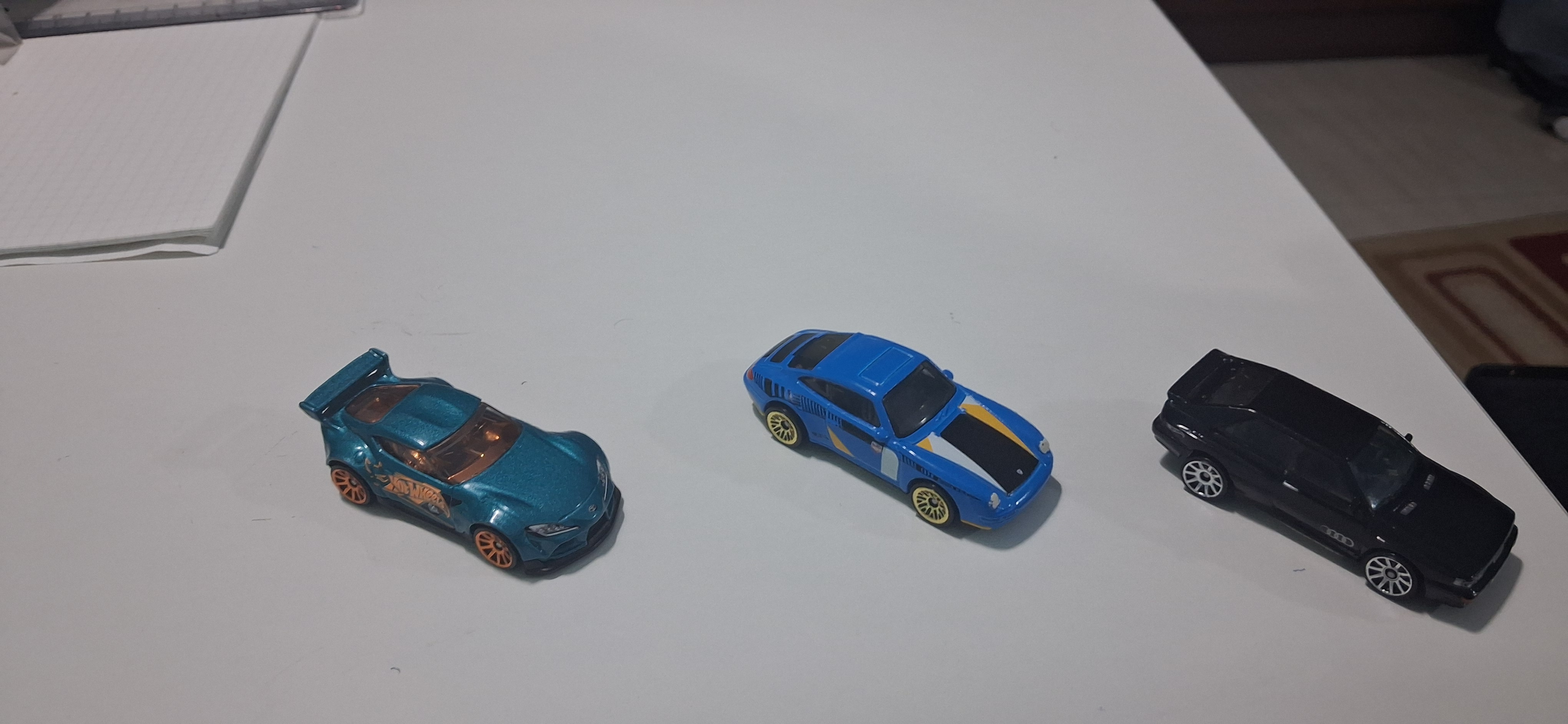Audi_Quattro: (1144, 294, 1533, 645)
Porsche_Carrera: (730, 285, 1076, 562)
Toyota_GR_Supra: (281, 314, 638, 601)
